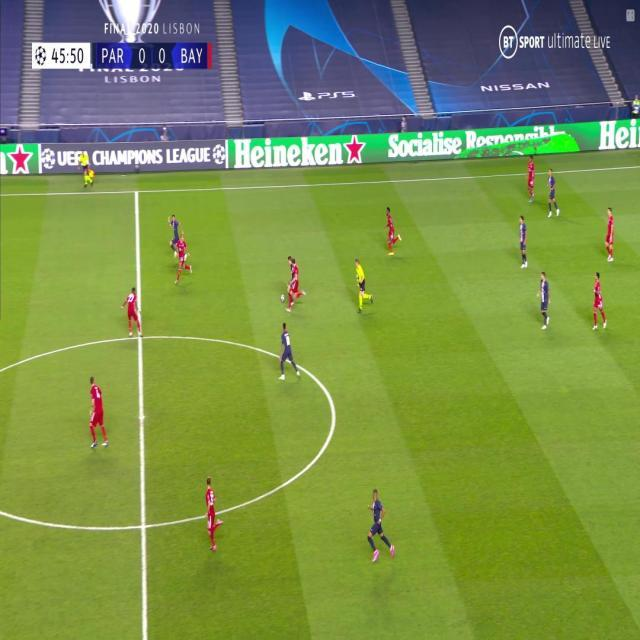ball: (281, 293, 285, 303)
player: (364, 487, 395, 564), (87, 376, 111, 450), (202, 476, 224, 554), (276, 322, 301, 383), (282, 255, 304, 313), (119, 286, 142, 337), (591, 271, 608, 332), (176, 234, 194, 287), (383, 207, 402, 256), (537, 270, 551, 332), (603, 207, 616, 264), (546, 167, 560, 219), (517, 214, 529, 271), (524, 155, 537, 204), (168, 213, 180, 259), (286, 256, 293, 284)
referee: (353, 259, 373, 313), (78, 152, 95, 189)
